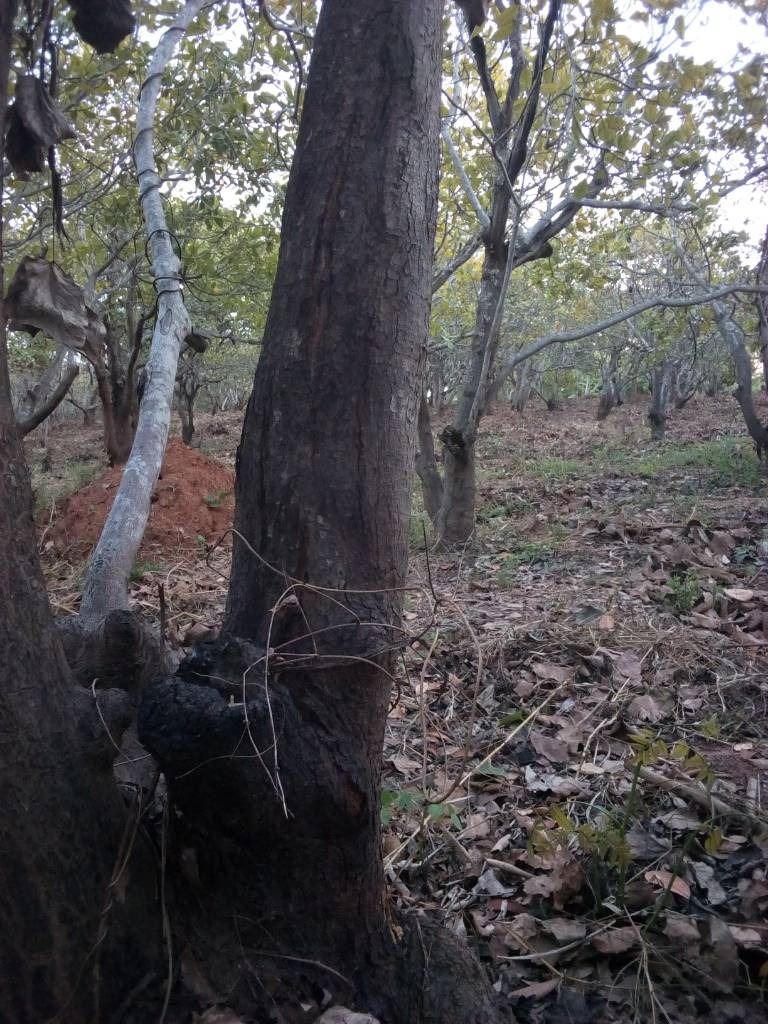Termites: (280, 22, 415, 646), (157, 452, 235, 536)
